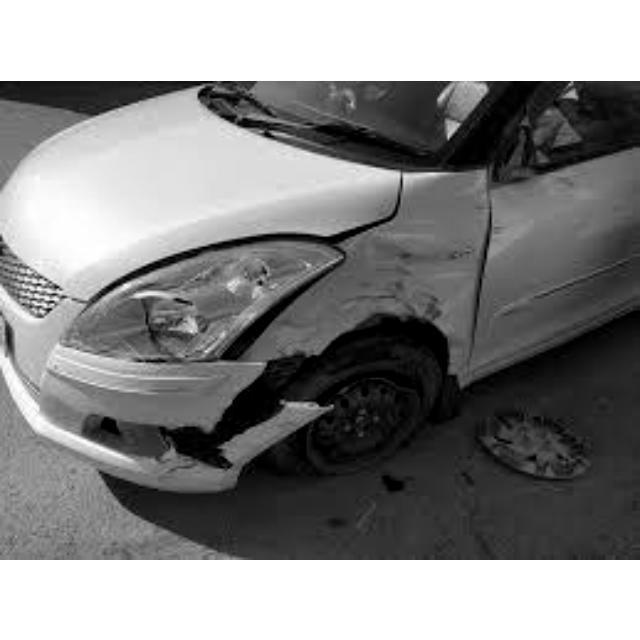fender-dent: (314, 162, 484, 401)
front-bumper-dent: (18, 333, 321, 498)
